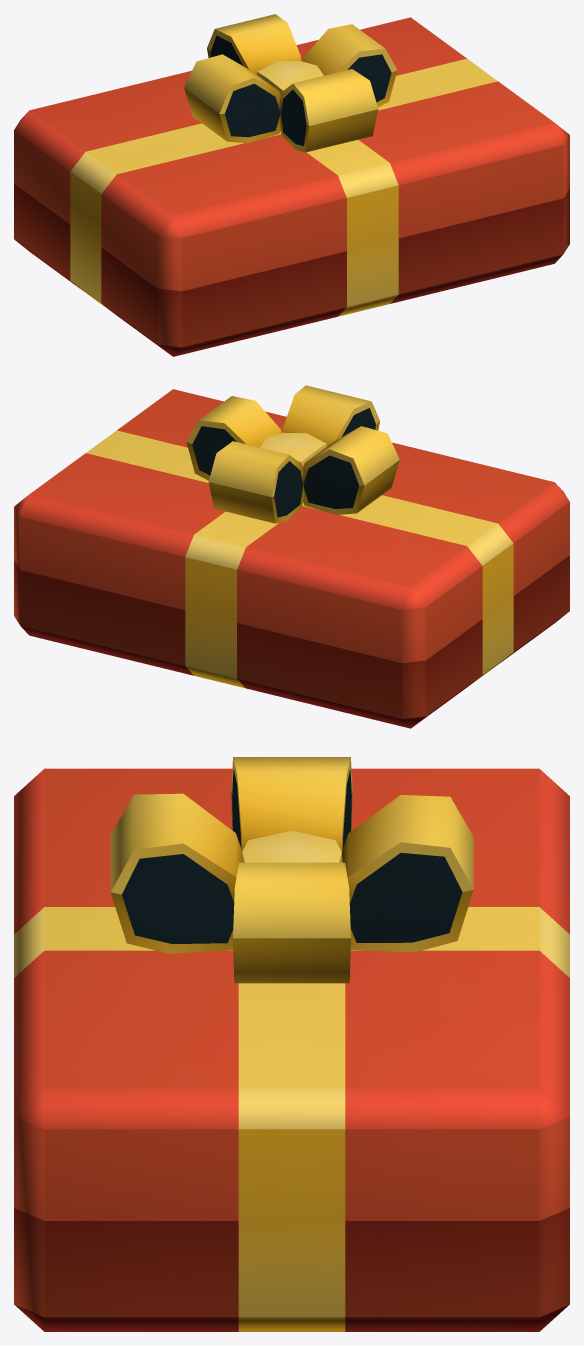
The model's file is presi_square_2_red.fbx.
The picture shows the model from 3 angles, top to bottom: view 1: azimuth 30°, elevation 25°; view 2: azimuth 150°, elevation 25°; view 3: azimuth 270°, elevation 25°; orthographic projection. The views are drawn at different scales.
Parts seen in each view (by area): view 1: presi_square_2_red; view 2: presi_square_2_red; view 3: presi_square_2_red.
Boxes of the visible parts, <box> form: presi_square_2_red: <box>14,14,569,356</box>; presi_square_2_red: <box>14,385,569,728</box>; presi_square_2_red: <box>14,757,569,1331</box>.
Bounding box in the file's own units: 156 × 74 × 106.
Materials: 1 (1 with a texture image).
